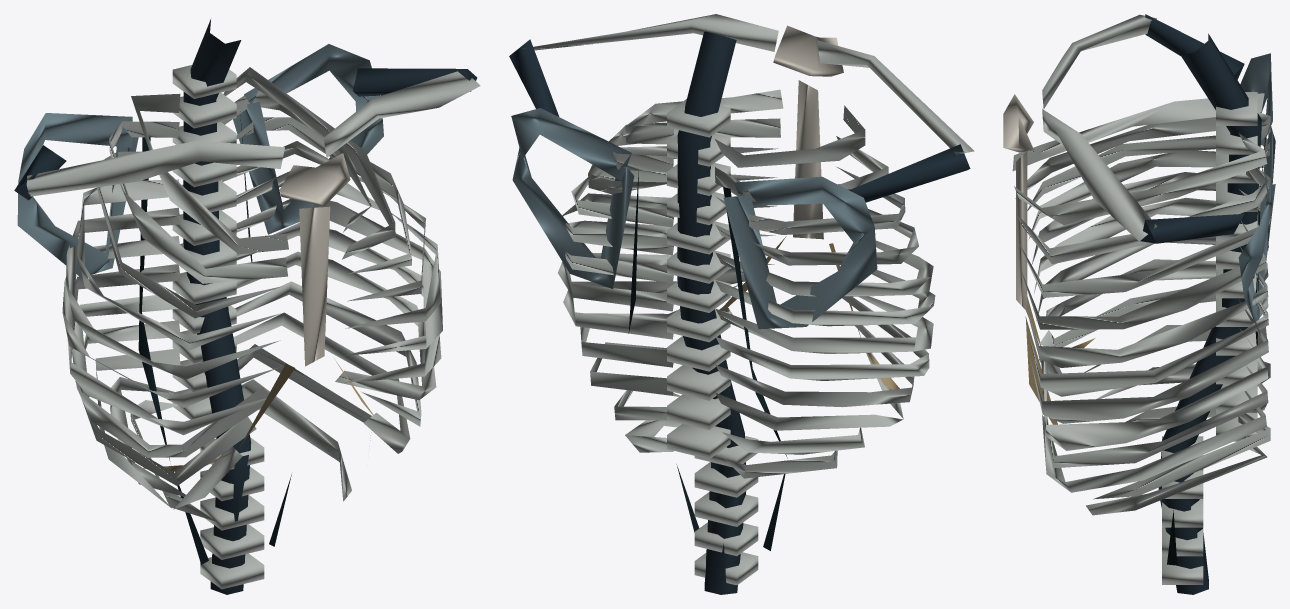
The model's file is aurel03_ribcage_d0_lod2.glb.
3 renders of one model, left to right at view 1: azimuth 30°, elevation 25°; view 2: azimuth 150°, elevation 25°; view 3: azimuth 270°, elevation 25°, orthographic. The views are drawn at different scales.
Visible parts, largest first — view 1: DISTANCE_SURFACE; view 2: DISTANCE_SURFACE; view 3: DISTANCE_SURFACE.
Boxes of the visible parts, x1,y1,x2,y2 form: DISTANCE_SURFACE: (14, 19, 480, 594); DISTANCE_SURFACE: (509, 14, 974, 594); DISTANCE_SURFACE: (1003, 14, 1275, 594).
Size of the model in its own units: 0.3961 by 0.462 by 0.2065.
